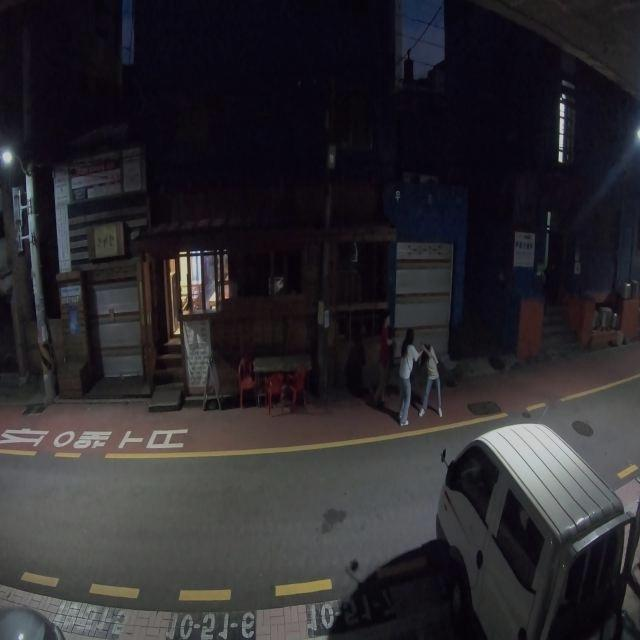fight: (394, 325, 445, 426)
